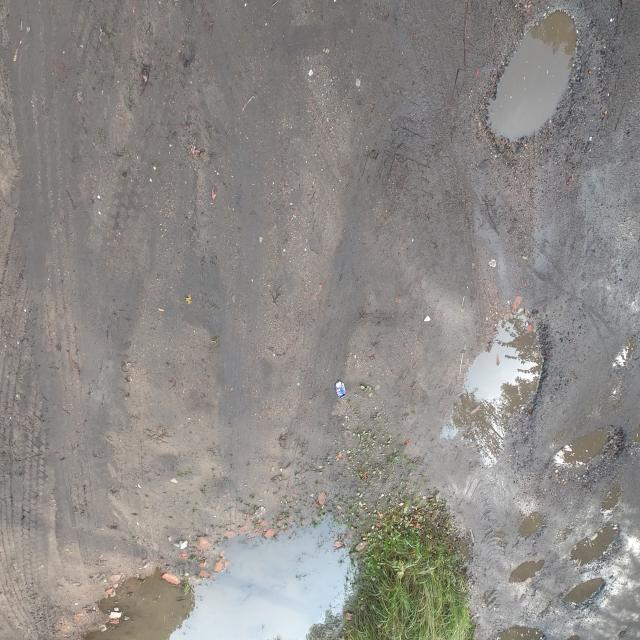rubbish: (294, 241, 305, 259)
